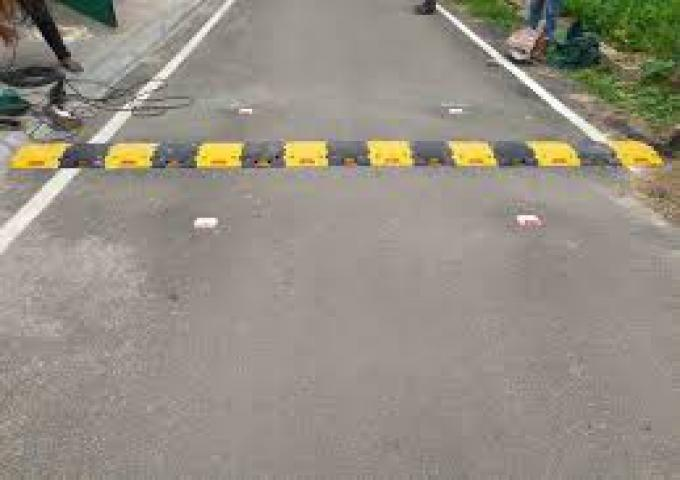speedbreaker: (17, 124, 662, 186)
